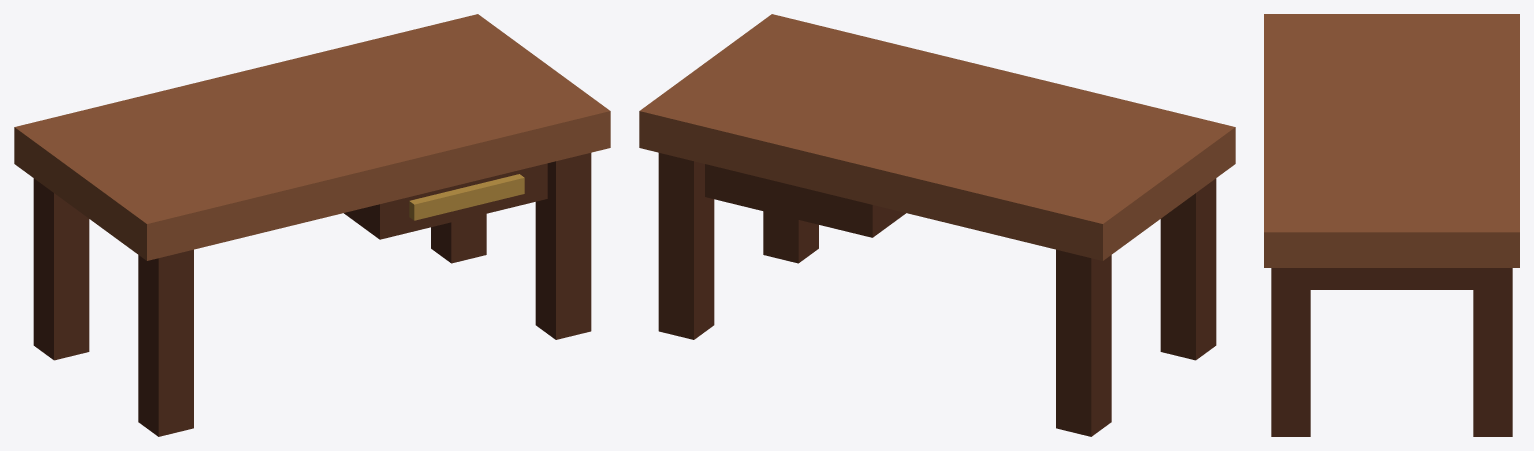
The model's file is desk.obj.
3 renders of one model, left to right at view 1: azimuth 30°, elevation 25°; view 2: azimuth 150°, elevation 25°; view 3: azimuth 270°, elevation 25°, orthographic. The views are drawn at different scales.
Parts seen in each view (by area): view 1: desk; view 2: desk; view 3: desk.
Boxes of the visible parts, x1,y1,x2,y2 form: desk: (14,14,610,436); desk: (639,14,1235,436); desk: (1264,14,1519,436).
Size of the model in its own units: 2.1 by 0.95 by 1.04.
